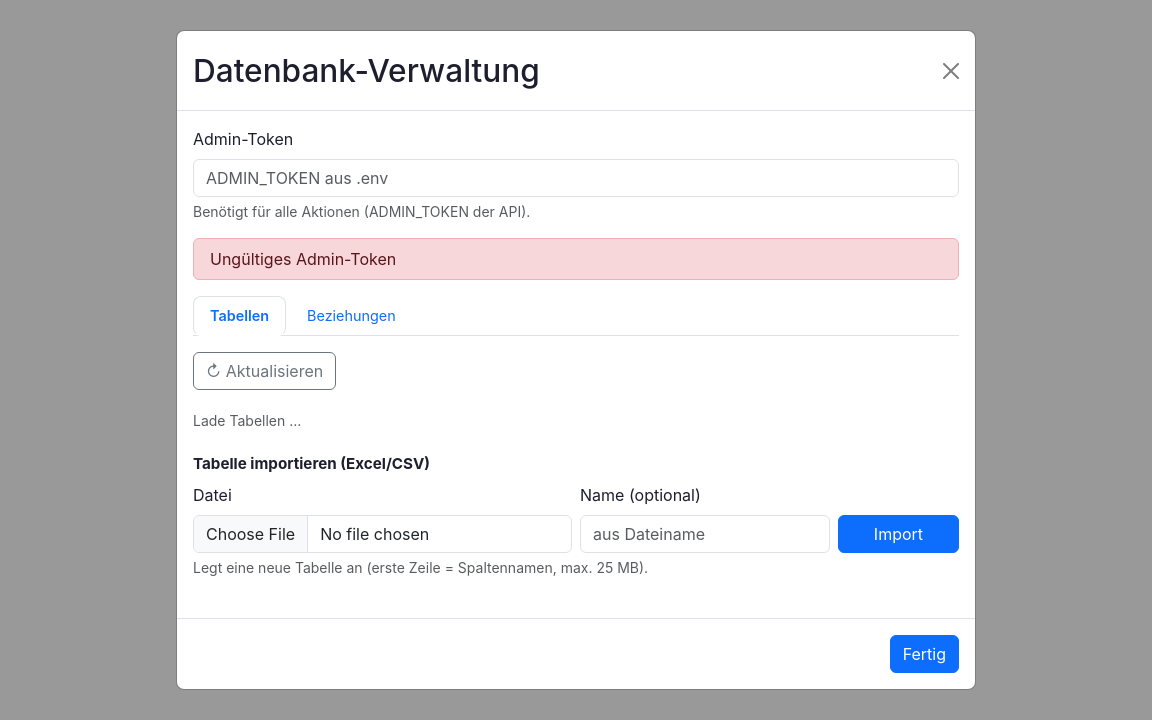
Test: AdminPanel – rendering › clears the stale 401 notice when the user corrects the token
The width and height of the screenshot is (1152, 720).
Check: the text "Ungültiges Admin-Token" is shown, box [193,238,959,280]
Note: User corrects the token → stale notice disappears, tables load.
Type "geheim" into the password field labelled "Admin-Token" at (576, 178), box [193,160,959,198]
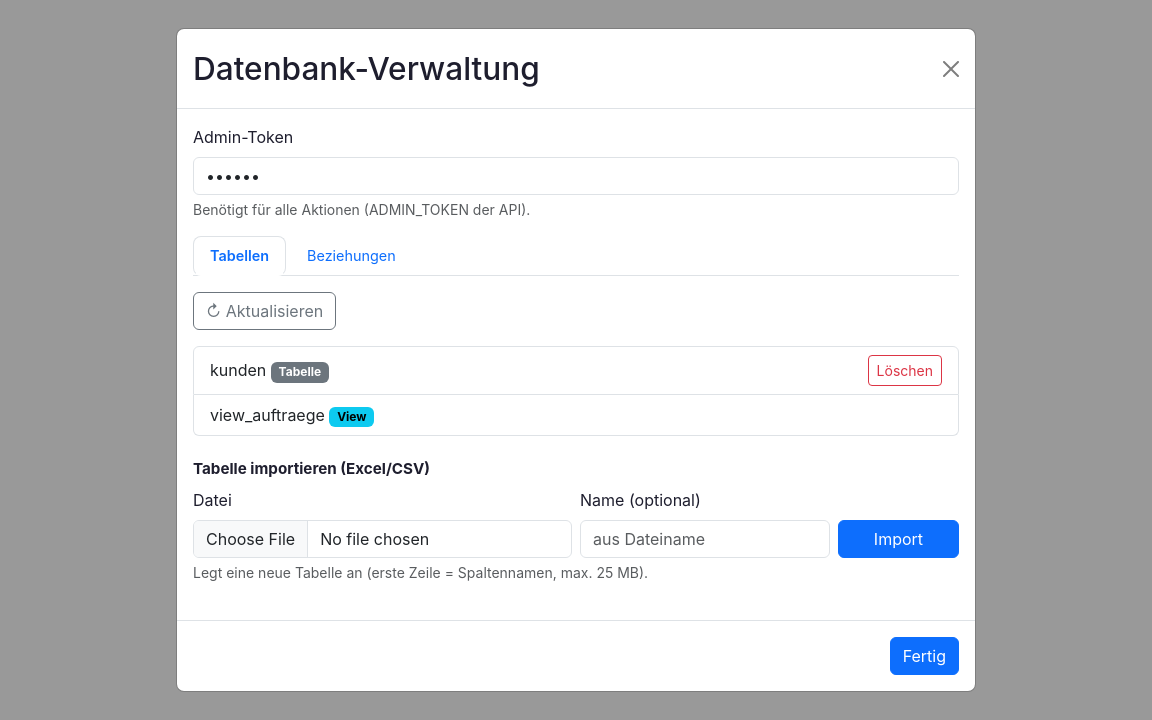
Check: the text "kunden" is shown, box [210,360,266,380]
Check: the text "Ungültiges Admin-Token" is gone
